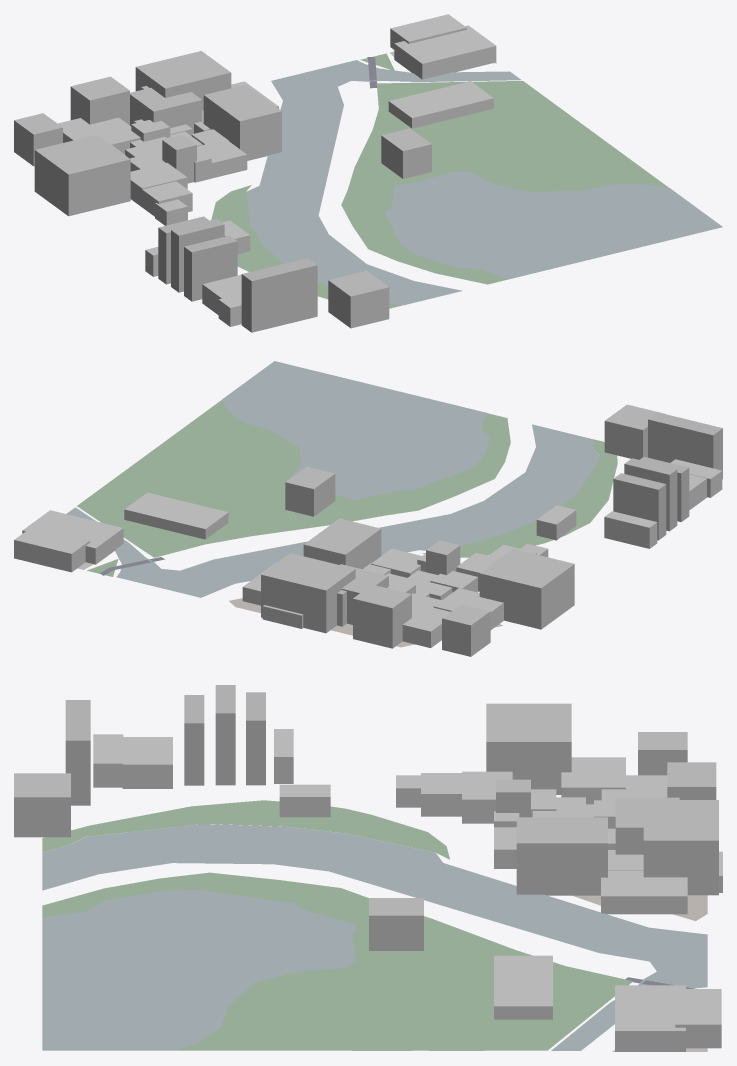
Rendered from 123_91_mid.glb.
The picture shows the model from 3 angles, top to bottom: view 1: azimuth 30°, elevation 25°; view 2: azimuth 150°, elevation 25°; view 3: azimuth 270°, elevation 25°; orthographic projection. The views are drawn at different scales.
Size of the model in its own units: 525 by 61.23 by 533.
